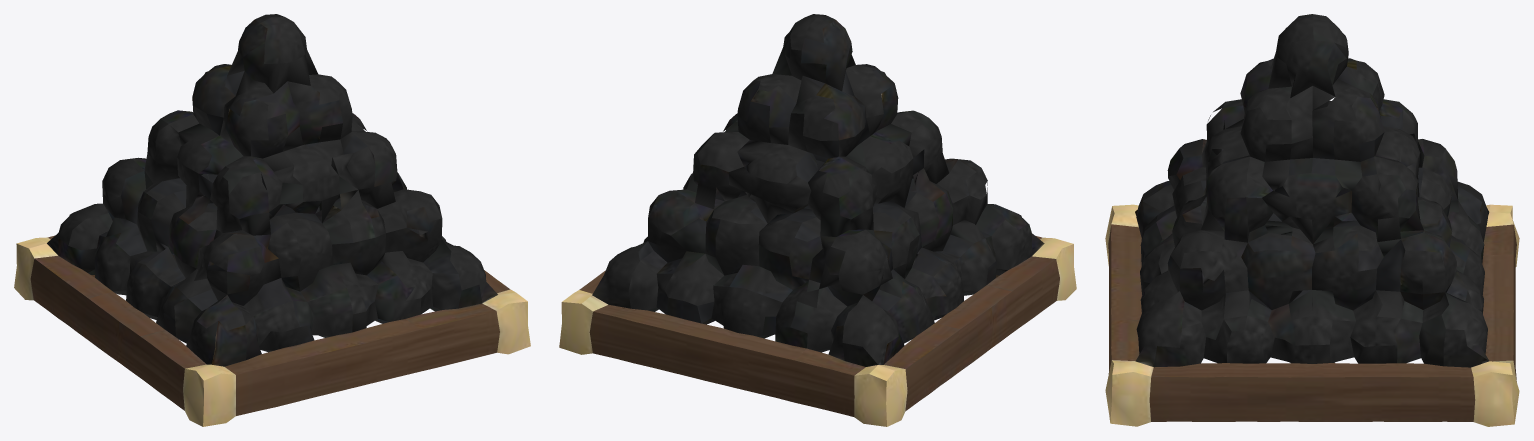
File: boulets.glb
The picture shows the model from 3 angles, left to right: view 1: azimuth 30°, elevation 25°; view 2: azimuth 150°, elevation 25°; view 3: azimuth 270°, elevation 25°; orthographic projection. The views are drawn at different scales.
Visible parts, largest first — view 1: boulets; view 2: boulets; view 3: boulets.
Boxes of the visible parts, x1=… form: boulets: x1=14, y1=14, x2=530, y2=426; boulets: x1=559, y1=14, x2=1076, y2=426; boulets: x1=1105, y1=14, x2=1519, y2=426.
Bounding box in the file's own units: 0.8074 × 0.7 × 0.8074.
1 material, 1 textured.
